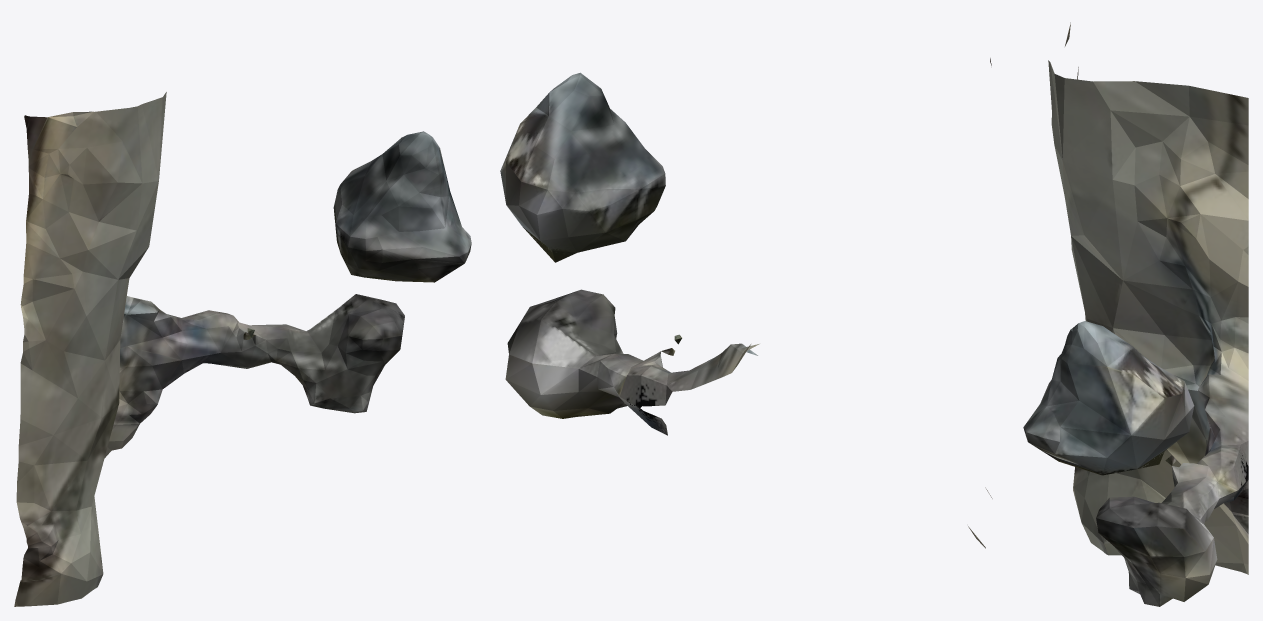
3 views of the same model, side by side, from view 1: azimuth 30°, elevation 25°; view 2: azimuth 150°, elevation 25°; view 3: azimuth 270°, elevation 25° (orthographic). The views are drawn at different scales.
Size of the model in its own units: 1.57 by 1.67 by 0.6843.
2 materials, 2 textured.
